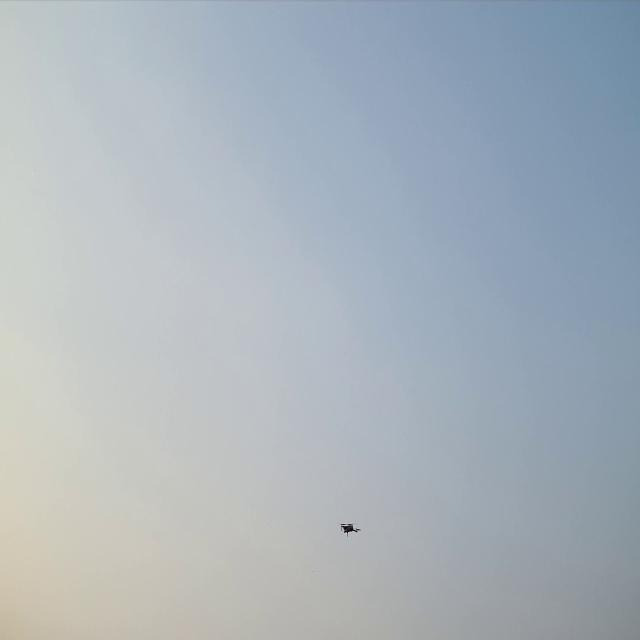UAV: (337, 520, 362, 539)
